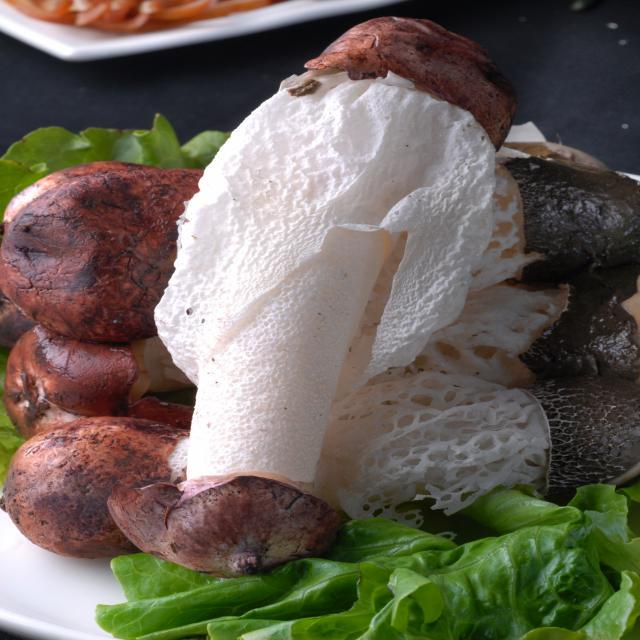Dictyophora indusiate: (161, 15, 525, 560), (324, 356, 640, 517)
